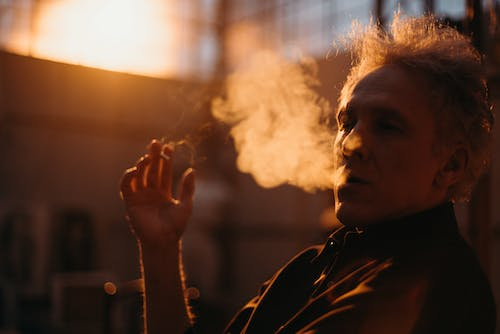cigarette: (157, 151, 171, 161)
